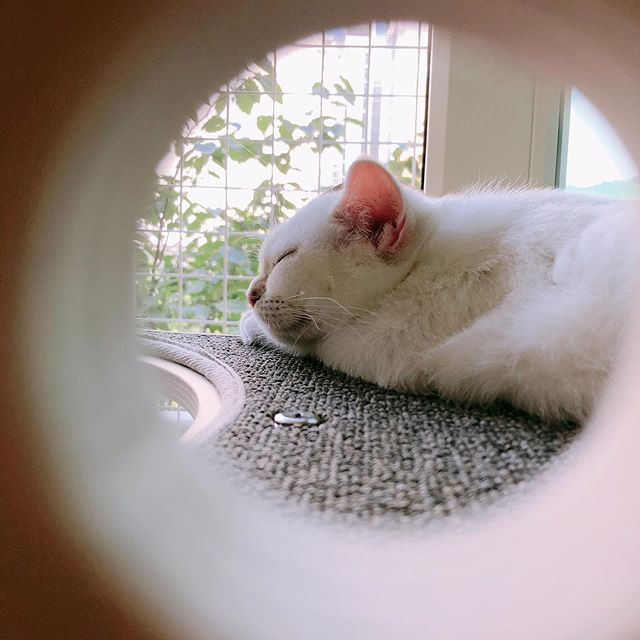cat: (242, 150, 437, 356)
